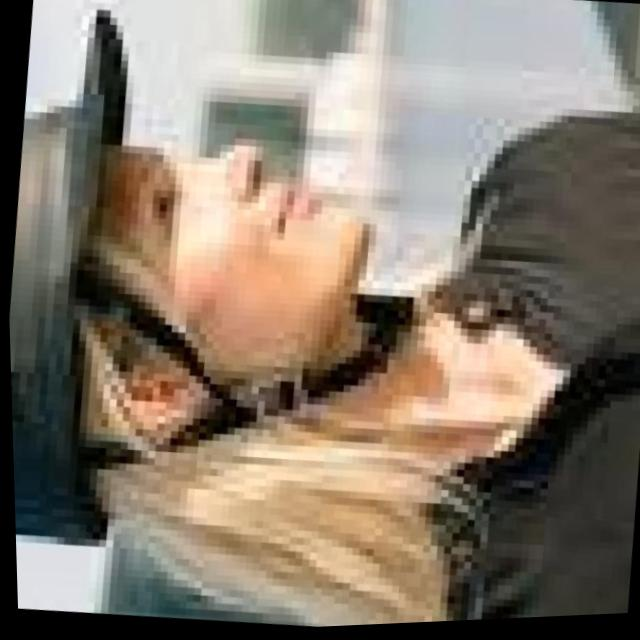WITH_HELMET: (0, 0, 157, 545)
